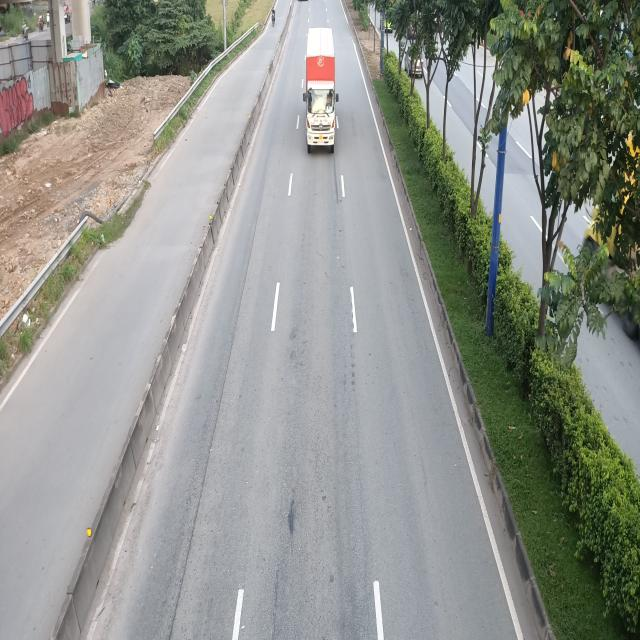truck: (302, 28, 338, 152)
